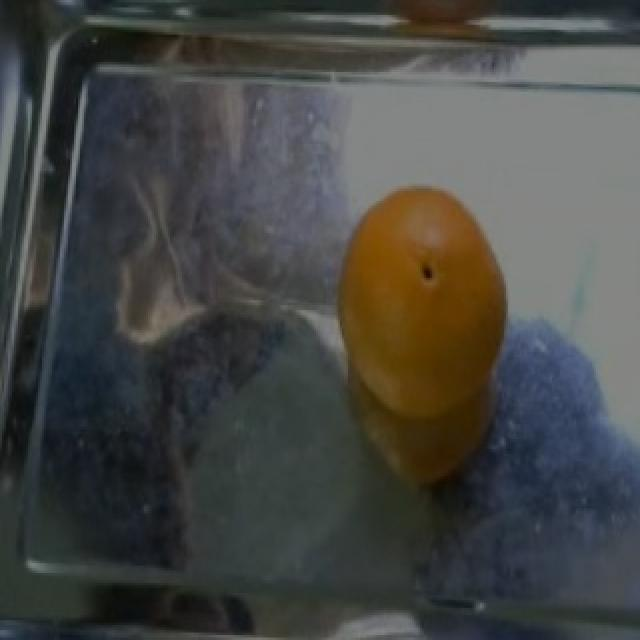Fruit: (322, 176, 520, 519)
